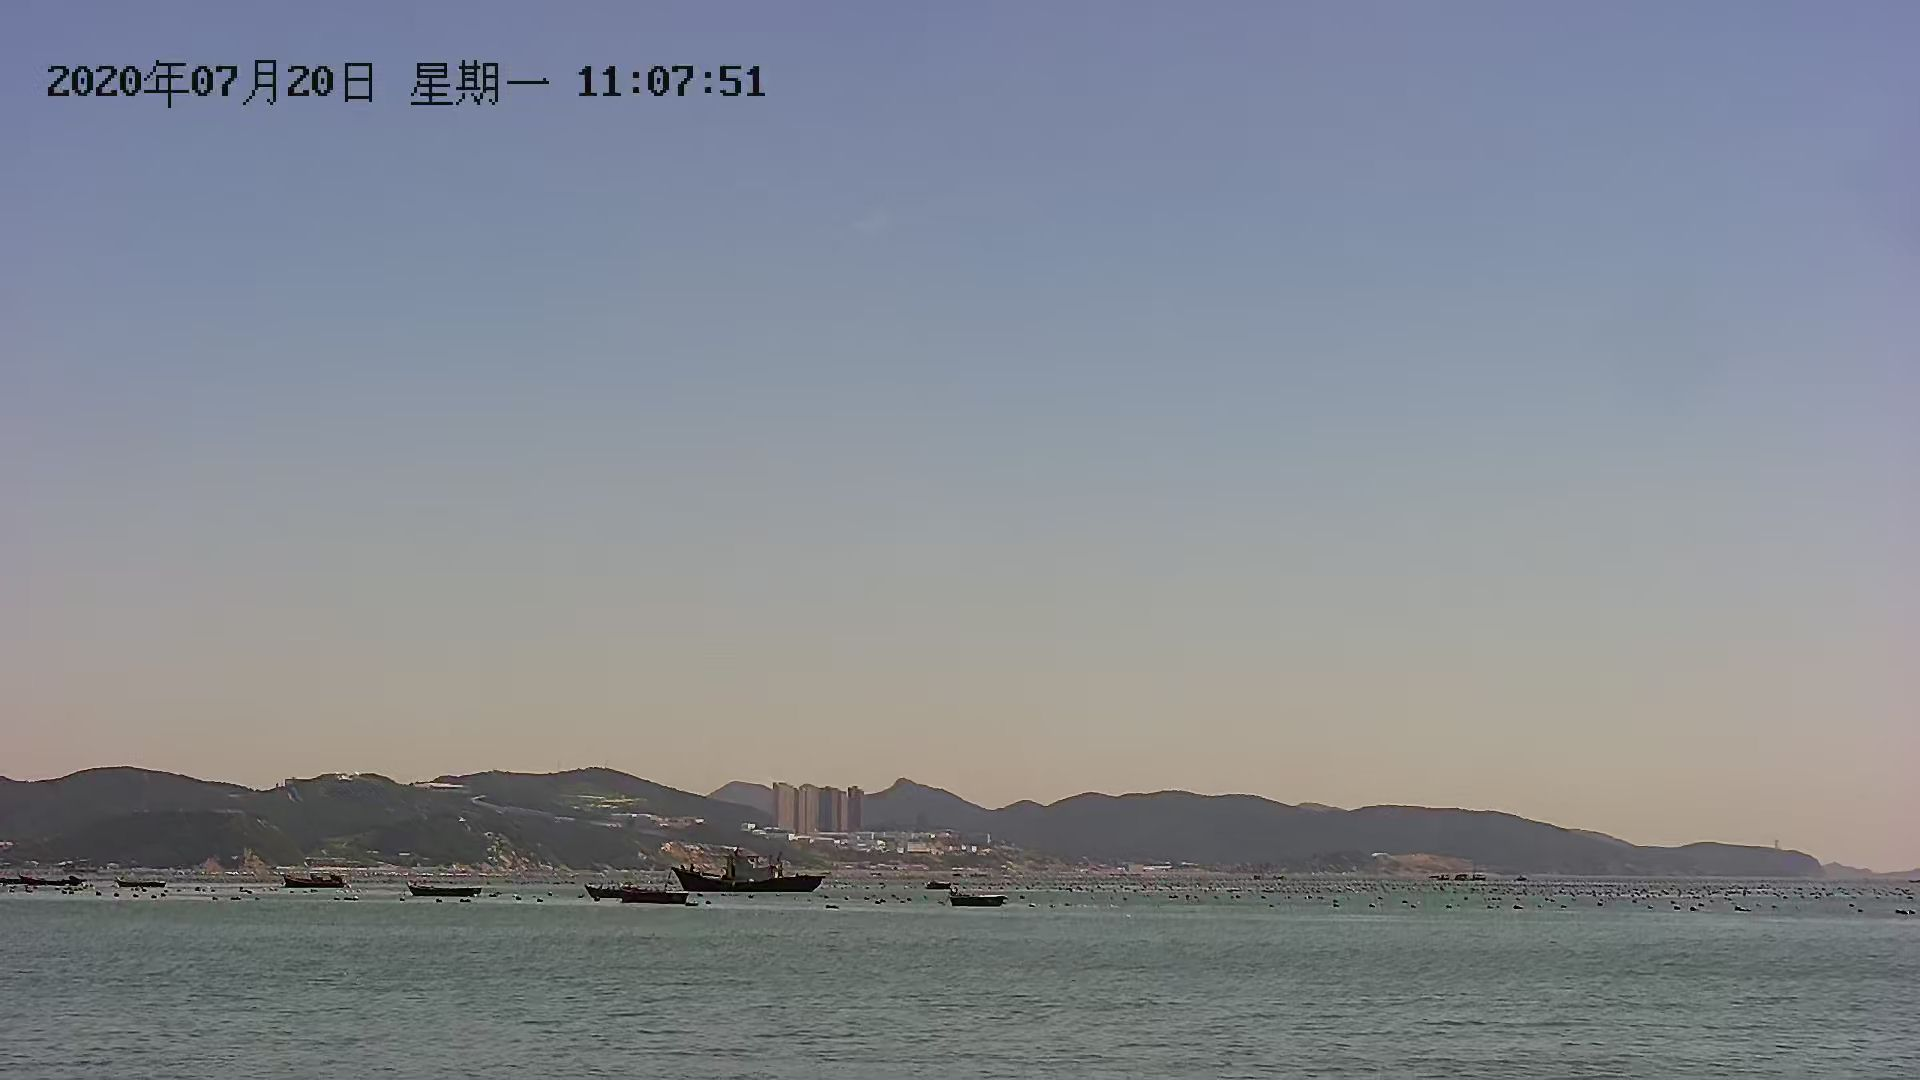boat: (276, 870, 353, 895), (402, 877, 487, 898), (587, 880, 658, 903), (620, 885, 695, 906), (948, 889, 1009, 910), (107, 876, 171, 891)
ship: (671, 849, 822, 897)
